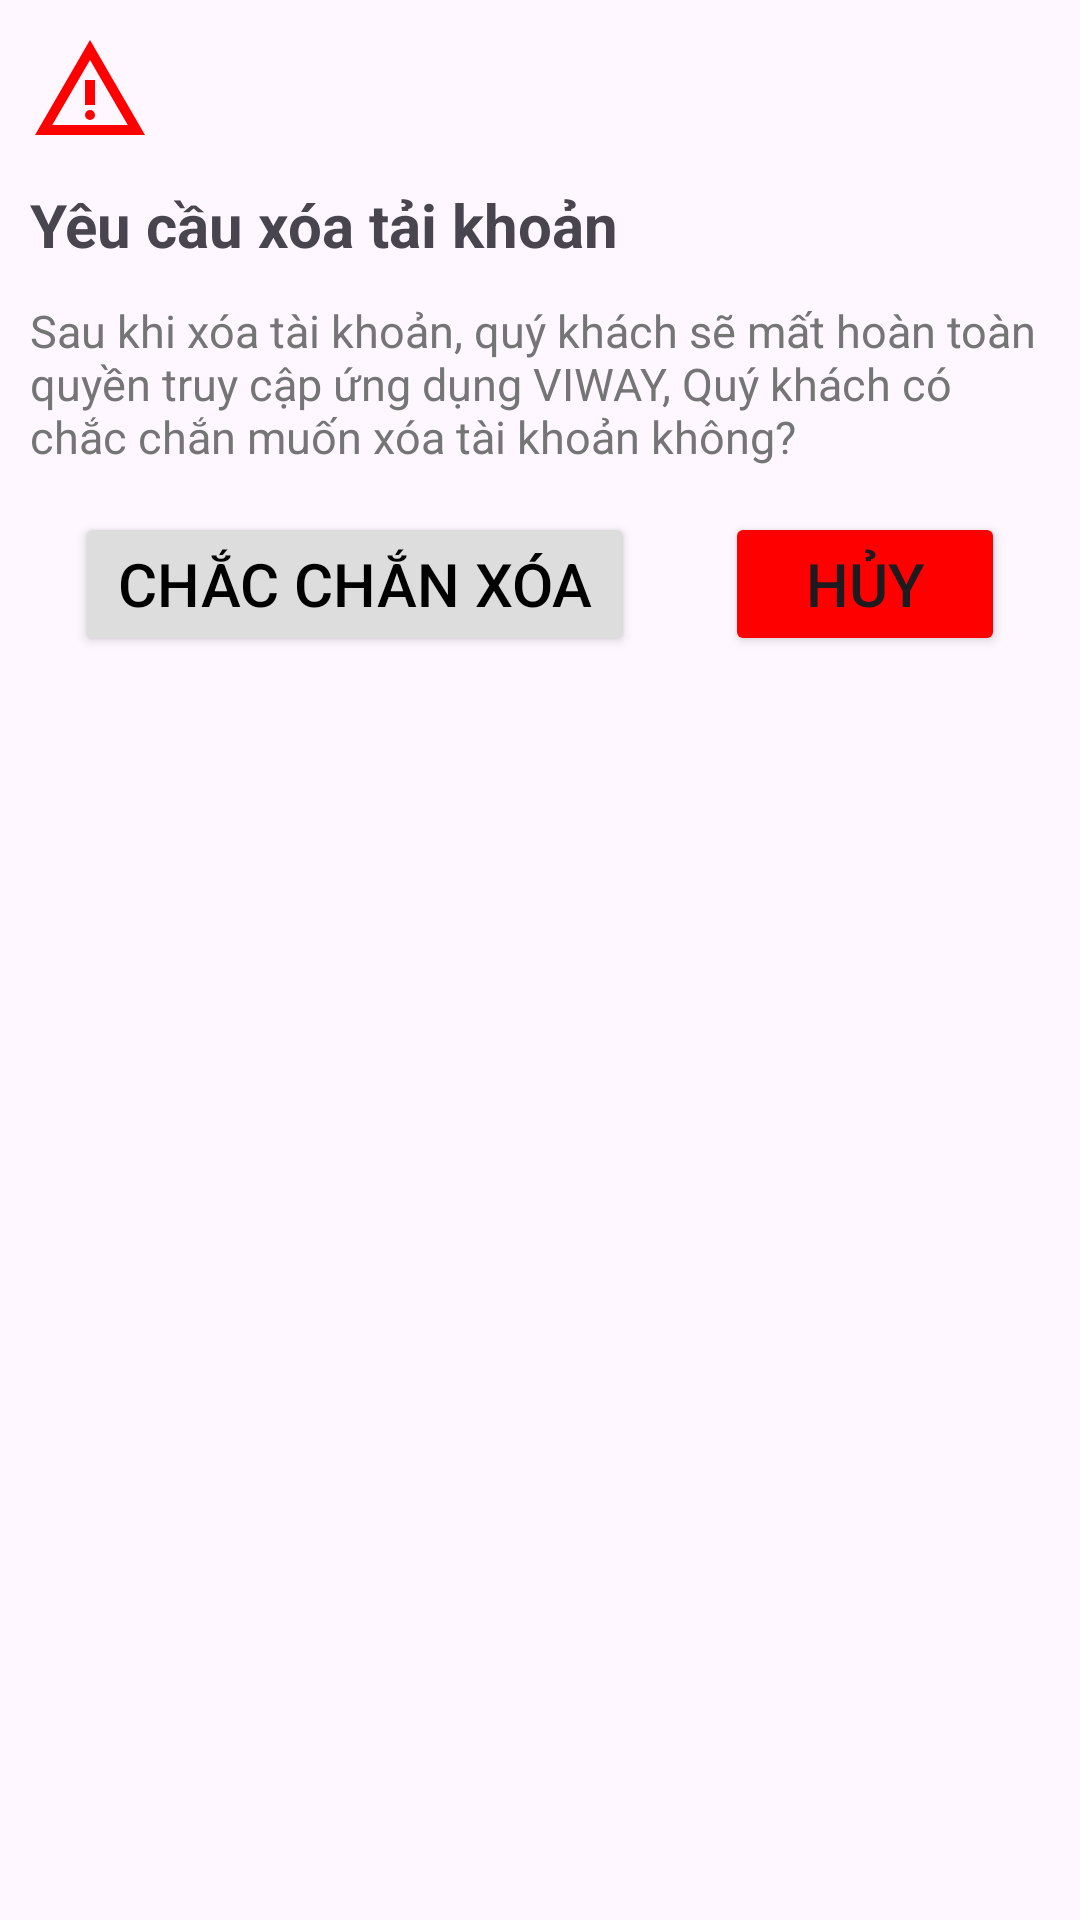

Where icons sit on this 1080 × 1920 app screen, as [x1,y1,x2,y2]:
warning: [35,40,145,135]
